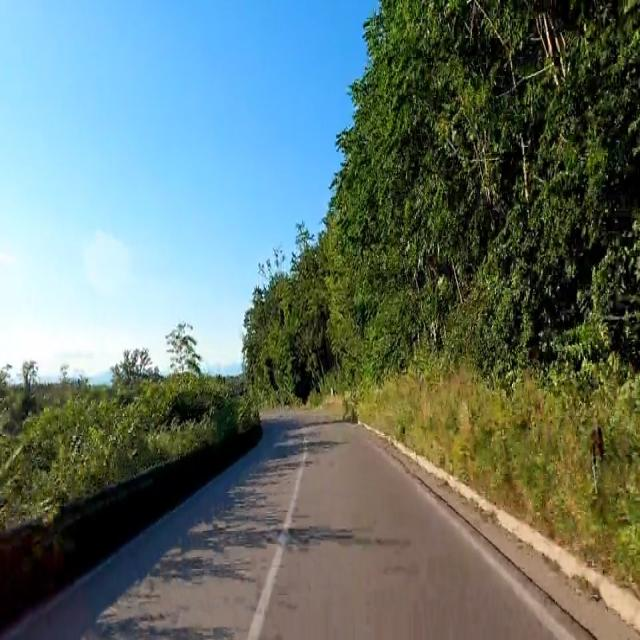lane: (358, 421, 639, 632), (247, 440, 307, 639), (247, 441, 306, 639)
road: (3, 410, 635, 638)
